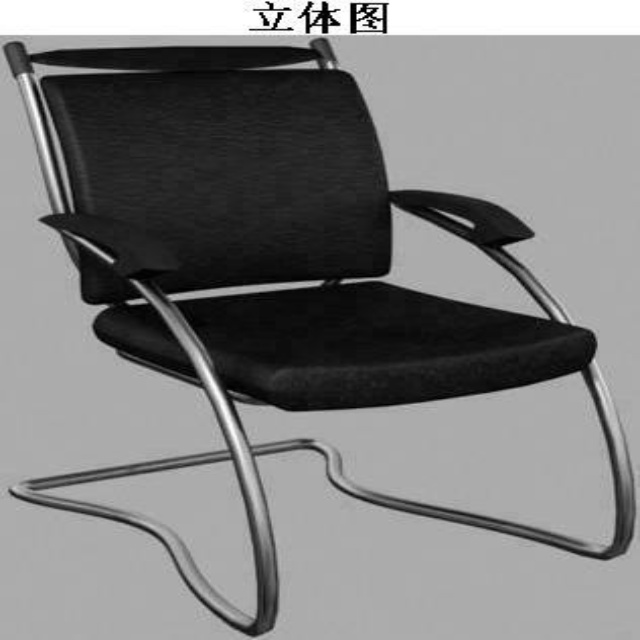obstacle: (328, 35, 636, 448), (2, 64, 221, 483), (255, 453, 634, 638), (237, 375, 612, 541), (4, 495, 251, 638), (57, 465, 253, 611)
